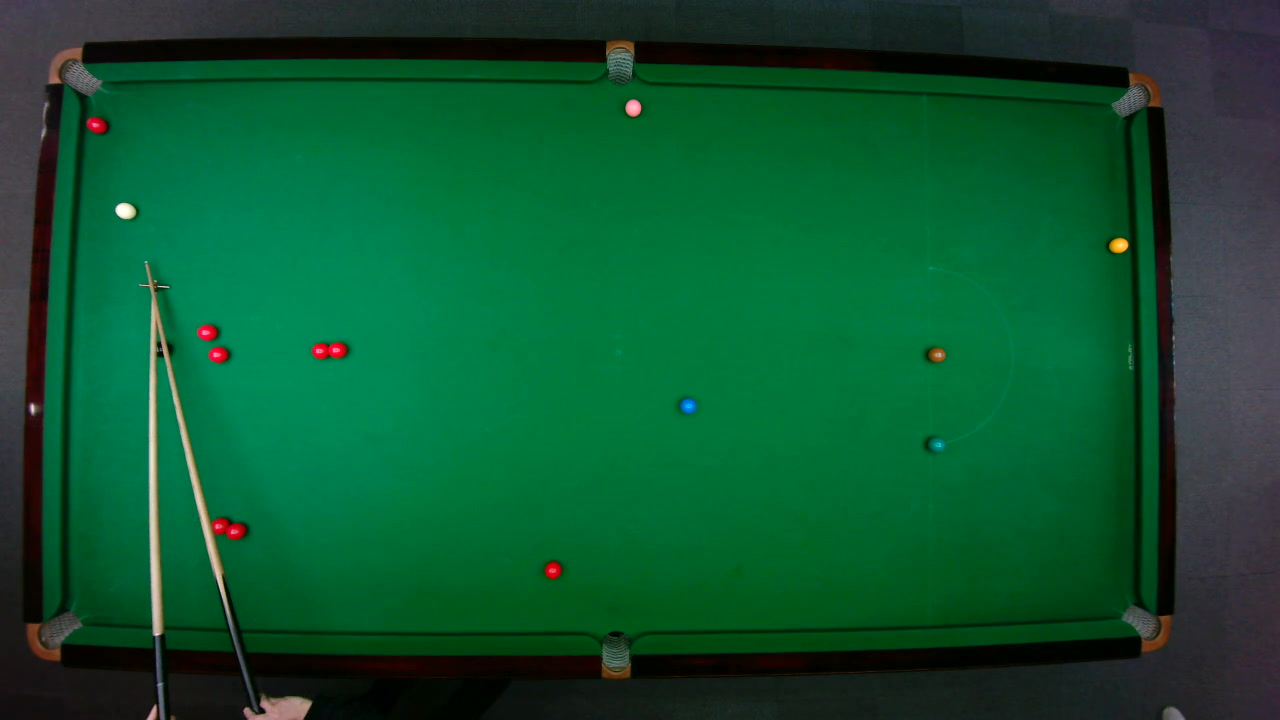bag: (25, 609, 83, 661), (46, 46, 102, 96), (1119, 603, 1171, 651), (1108, 71, 1161, 118), (600, 629, 629, 680), (605, 39, 633, 84)
black: (152, 339, 175, 359)
blue: (678, 396, 697, 414)
brown: (926, 346, 946, 362)
cue: (138, 256, 260, 720)
green: (926, 435, 946, 452)
pink: (623, 97, 642, 117)
red: (222, 520, 247, 539), (84, 115, 108, 134), (325, 340, 347, 359), (195, 322, 218, 340), (542, 559, 562, 579), (207, 345, 229, 363), (310, 341, 330, 359), (210, 516, 229, 534)
white: (113, 200, 136, 219)
yellow: (1107, 236, 1129, 253)
zone: (926, 265, 1014, 445)
